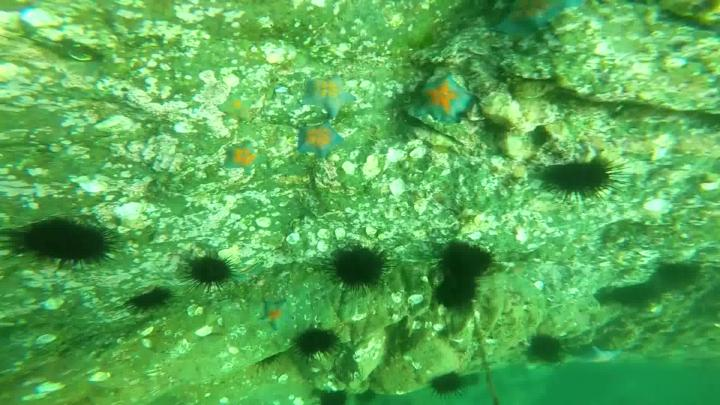echinus: (1, 221, 121, 269), (538, 156, 626, 199), (327, 240, 392, 291), (181, 251, 242, 291), (441, 243, 496, 274), (297, 327, 344, 362), (127, 289, 177, 318), (437, 276, 479, 309), (528, 336, 563, 364), (663, 266, 700, 291), (432, 379, 470, 402), (614, 286, 653, 308), (319, 392, 348, 405)
scallop: (20, 7, 59, 30), (113, 205, 148, 220), (76, 179, 110, 194), (646, 199, 674, 217), (385, 148, 410, 162), (389, 178, 407, 197), (69, 49, 94, 61), (410, 145, 428, 161), (198, 326, 219, 338), (223, 75, 241, 87), (258, 217, 273, 229), (315, 244, 331, 254), (285, 236, 302, 245), (38, 337, 57, 345), (318, 228, 332, 238)
starfish: (496, 1, 586, 40), (417, 73, 472, 124), (301, 76, 357, 116), (295, 120, 343, 162), (222, 141, 264, 170), (221, 95, 255, 119), (578, 349, 617, 365)
